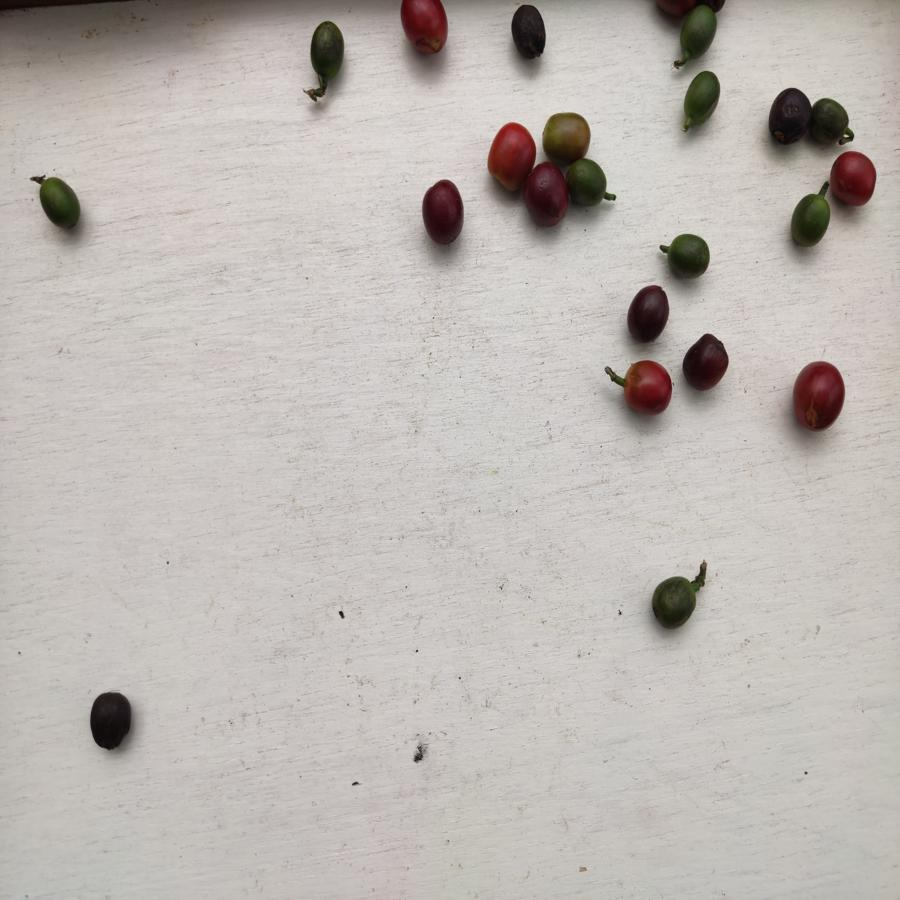Inmaduro: (33, 178, 84, 233), (651, 574, 698, 633), (680, 69, 727, 128), (787, 189, 831, 248), (565, 158, 611, 211), (308, 21, 345, 83), (666, 233, 711, 281), (679, 6, 720, 57), (811, 96, 848, 147)
Maduro: (789, 358, 848, 437), (401, 1, 452, 64), (620, 357, 673, 417), (487, 120, 532, 190), (830, 148, 882, 208)
Pinton: (542, 111, 592, 158)
Sobremaduro: (419, 178, 465, 247), (87, 688, 134, 754), (623, 283, 670, 346), (682, 333, 731, 390), (765, 86, 810, 147), (524, 163, 565, 229), (510, 2, 550, 61)
